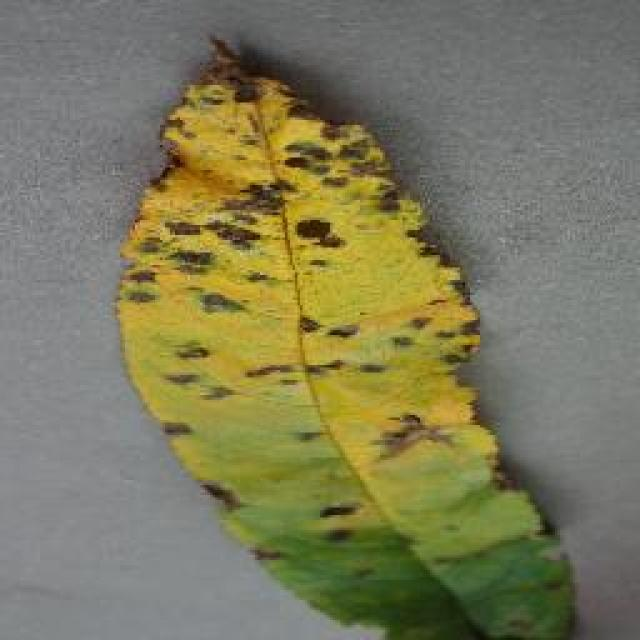Peach_Bacterial_Spot: (103, 93, 627, 522)
